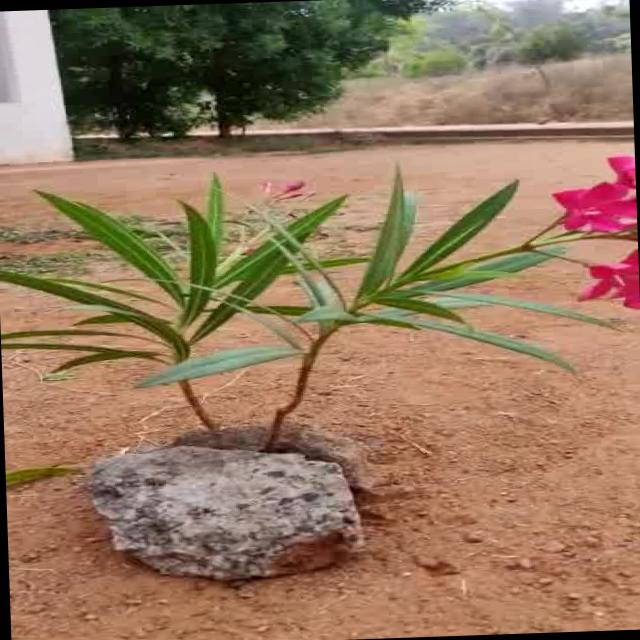OLEANDER: (8, 160, 640, 427)
